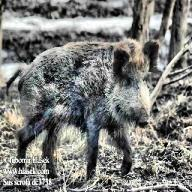boar: (5, 38, 160, 180)
